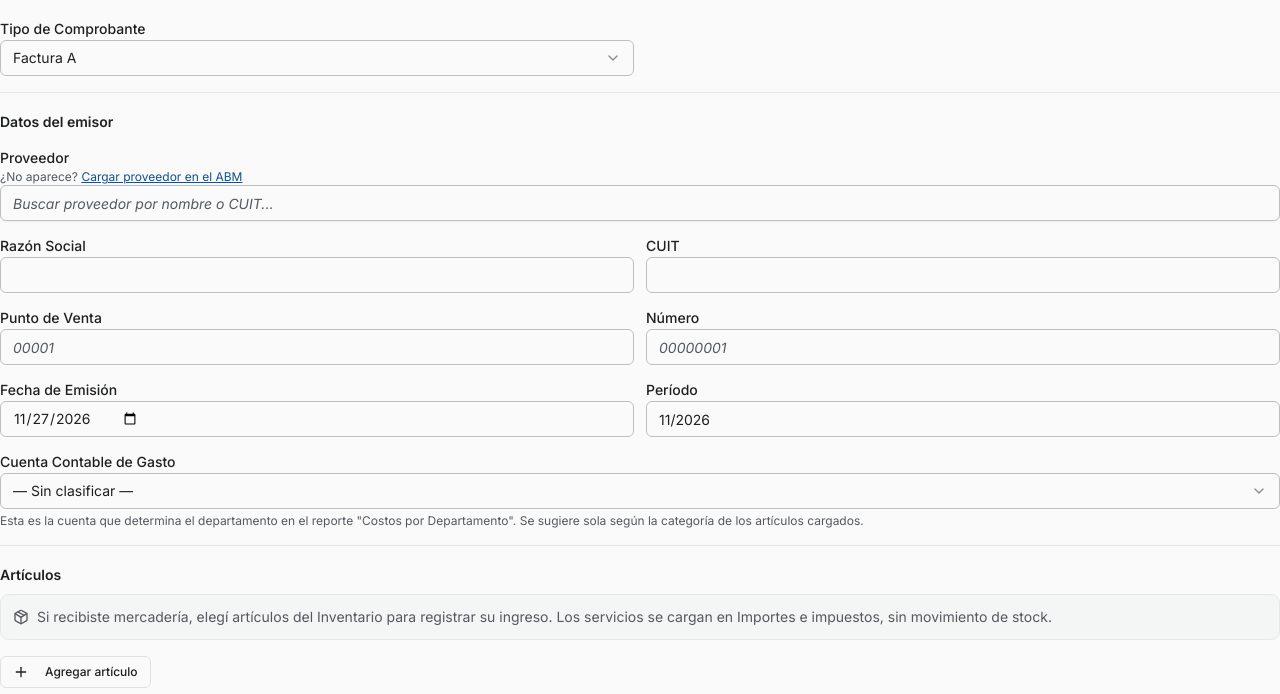
Test: InvoiceDialog — unifiedLayout › la sección Artículos solo ofrece elegir un artículo existente
This screenshot has width=1280, height=694.
Expected: the text "Artículos" is shown, x1=0 y1=566 x2=61 y2=583
Click the button with test id "btn-add-inv-item".
click(75, 672)  # box x1=0 y1=656 x2=151 y2=688
(page scrolled)
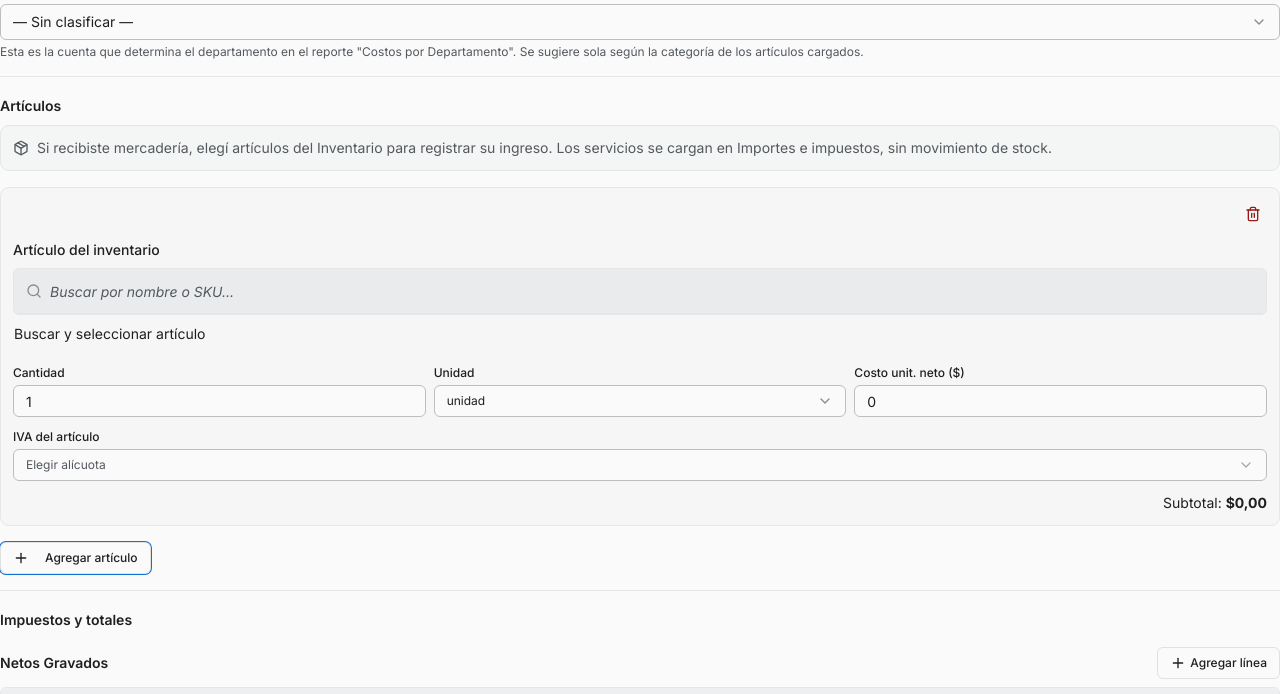
Now the button with test id "select-existing-item-0" is shown, box x1=13 y1=315 x2=1267 y2=353
